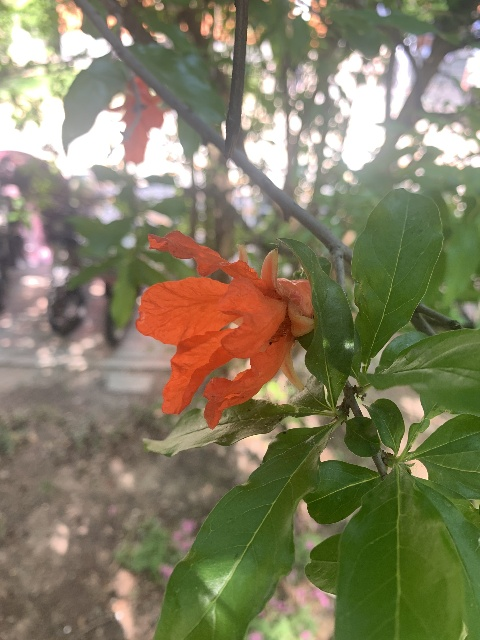flower: (135, 229, 314, 429), (106, 76, 173, 166)
